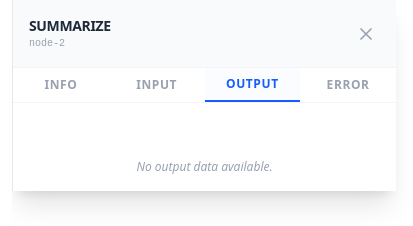
Scenario: NodeDetailSidebar › fetches and displays info for pattern nodes
Switch to info
Click the button "info" at [61, 85], box [13,68,109,102]
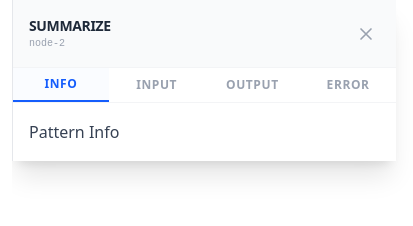
expect the heading "Pattern Info" is shown: met, box [29,121,119,143]
